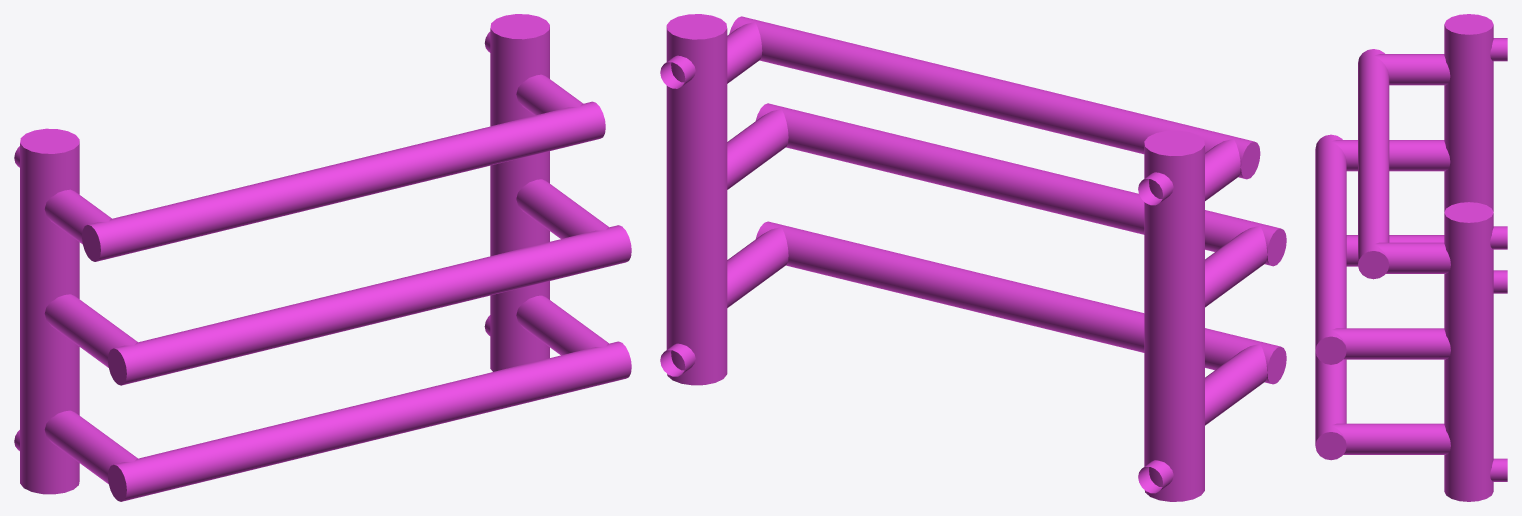
Rendered from 2hanger.fbx.
The picture shows the model from 3 angles, left to right: view 1: azimuth 30°, elevation 25°; view 2: azimuth 150°, elevation 25°; view 3: azimuth 270°, elevation 25°; orthographic projection. The views are drawn at different scales.
Parts seen in each view (by area): view 1: 2hanger; view 2: 2hanger; view 3: 2hanger.
Part boxes in pixels (bbox=[...]): 2hanger: bbox=[14, 14, 631, 501]; 2hanger: bbox=[660, 14, 1286, 501]; 2hanger: bbox=[1315, 14, 1507, 501].
Bounding box in the file's own units: 38.18 × 23.78 × 14.84.
